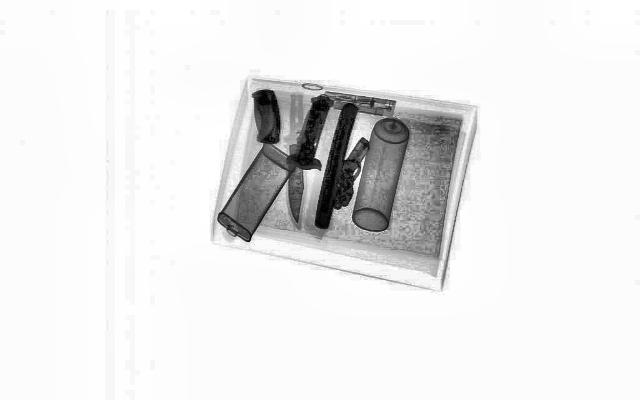Gun: (322, 135, 378, 209)
Knife: (282, 93, 338, 169), (252, 87, 282, 143), (285, 144, 305, 222)
